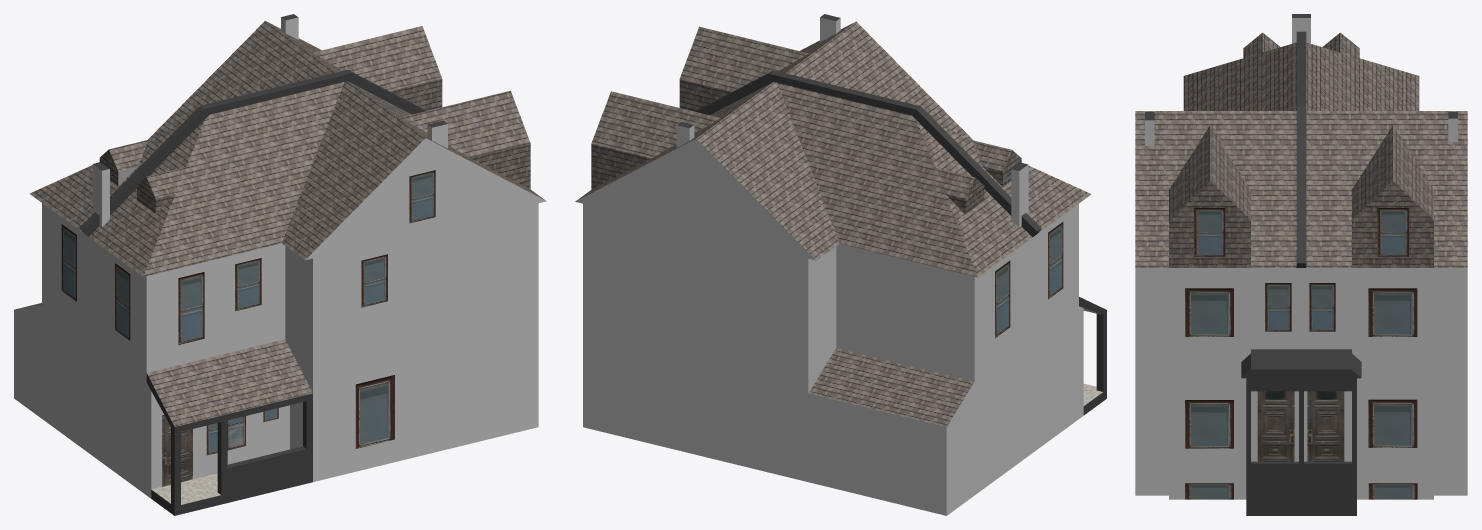
File: AugustaAndJohn2.fbx
3 views of the same model, side by side, from view 1: azimuth 30°, elevation 25°; view 2: azimuth 150°, elevation 25°; view 3: azimuth 270°, elevation 25° (orthographic). The views are drawn at different scales.
Parts seen in each view (by area): view 1: SketchUp.006, SketchUp.017, SketchUp.027, SketchUp.015, SketchUp.035, Plane.005, Plane.004, Plane.006, Plane.007, Plane.003, Plane, Plane.020 (+5 smaller); view 2: SketchUp.006, SketchUp.017, SketchUp.008, SketchUp.035, SketchUp.015, Plane.021, Plane.020, SketchUp.031, SketchUp.041; view 3: SketchUp.017, SketchUp.006, SketchUp, SketchUp.012, Plane.008, Plane.009, Plane.013, Plane.017, Plane.012, Plane.016, SketchUp.035, Plane.010 (+10 smaller).
Part boxes in pixels (box(x1,y1,x2,y2)): SketchUp.006: box(14, 138, 546, 498); SketchUp.017: box(29, 20, 545, 276); SketchUp.027: box(147, 339, 312, 426); SketchUp.015: box(146, 373, 312, 515); SketchUp.035: box(110, 70, 426, 214); Plane.005: box(355, 375, 394, 448); Plane.004: box(178, 272, 204, 344); Plane.006: box(361, 254, 387, 307); Plane.007: box(409, 170, 435, 223); Plane.003: box(235, 258, 261, 311); Plane: box(162, 415, 192, 486); Plane.020: box(115, 263, 130, 340); SketchUp.006: box(575, 139, 1083, 515); SketchUp.017: box(576, 21, 1091, 277); SketchUp.008: box(808, 348, 974, 426); SketchUp.035: box(695, 71, 1011, 215); SketchUp.015: box(1079, 297, 1106, 415); Plane.021: box(995, 260, 1010, 337); Plane.020: box(1048, 222, 1063, 299); SketchUp.031: box(1011, 164, 1028, 227); SketchUp.041: box(769, 70, 920, 109); SketchUp.017: box(1135, 32, 1467, 267); SketchUp.006: box(1135, 268, 1467, 499); SketchUp: box(1246, 378, 1356, 515); SketchUp.012: box(1241, 349, 1361, 378); Plane.008: box(1307, 391, 1344, 461); Plane.009: box(1257, 391, 1294, 461); Plane.013: box(1368, 288, 1417, 336); Plane.017: box(1368, 399, 1417, 447); Plane.012: box(1185, 288, 1233, 336); Plane.016: box(1185, 400, 1233, 448); SketchUp.035: box(1296, 106, 1306, 267); Plane.010: box(1193, 208, 1225, 256).
Size of the model in its own units: 1578 by 1169 by 1051.
